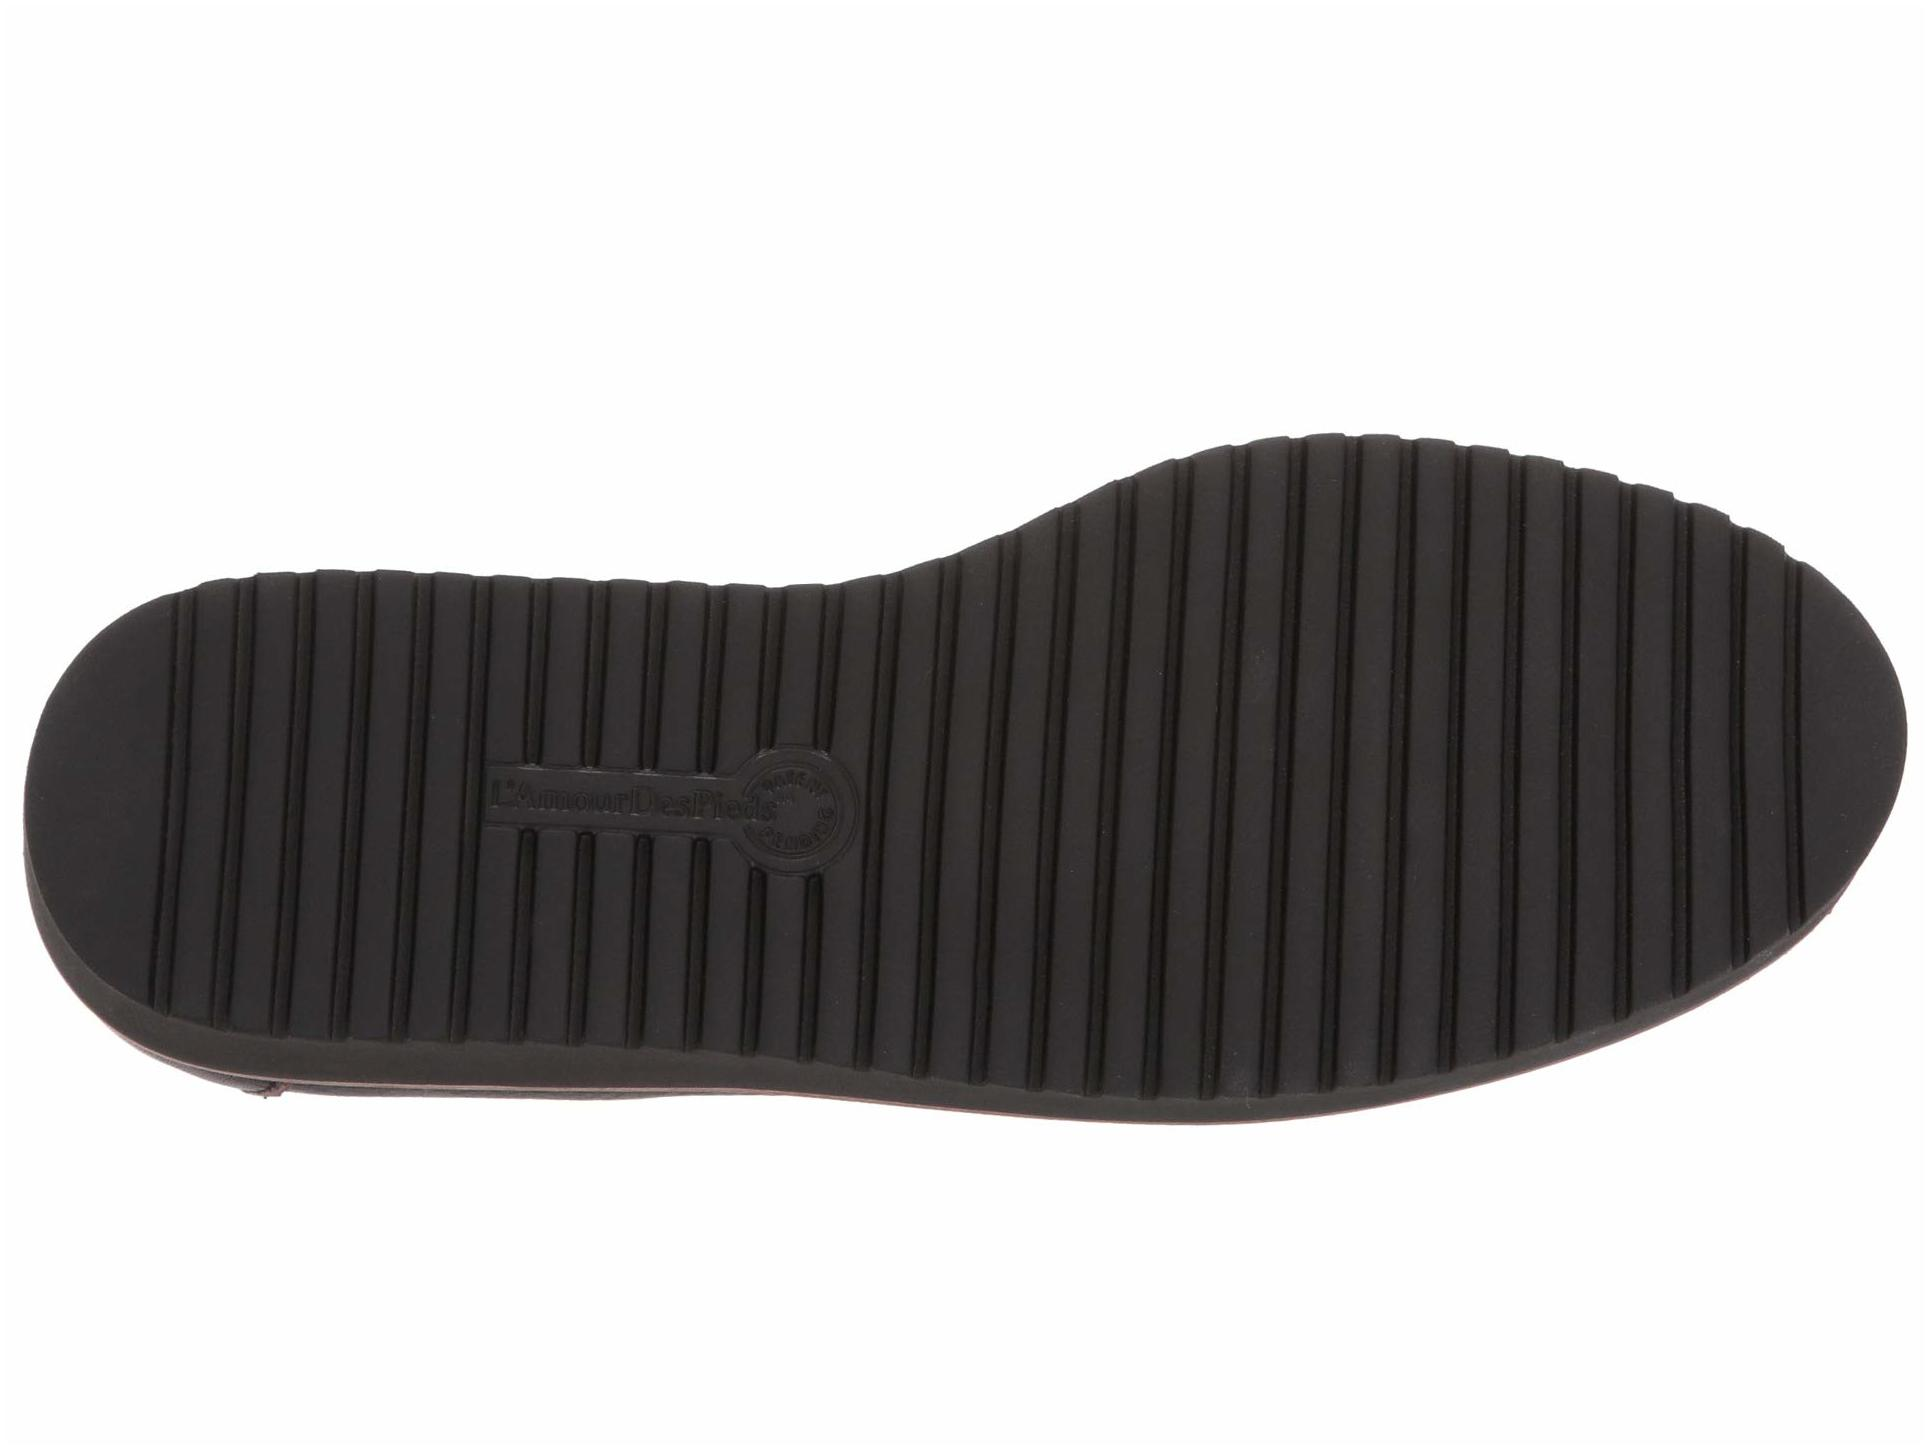line: (1208, 621, 1604, 966), (186, 653, 445, 947)
